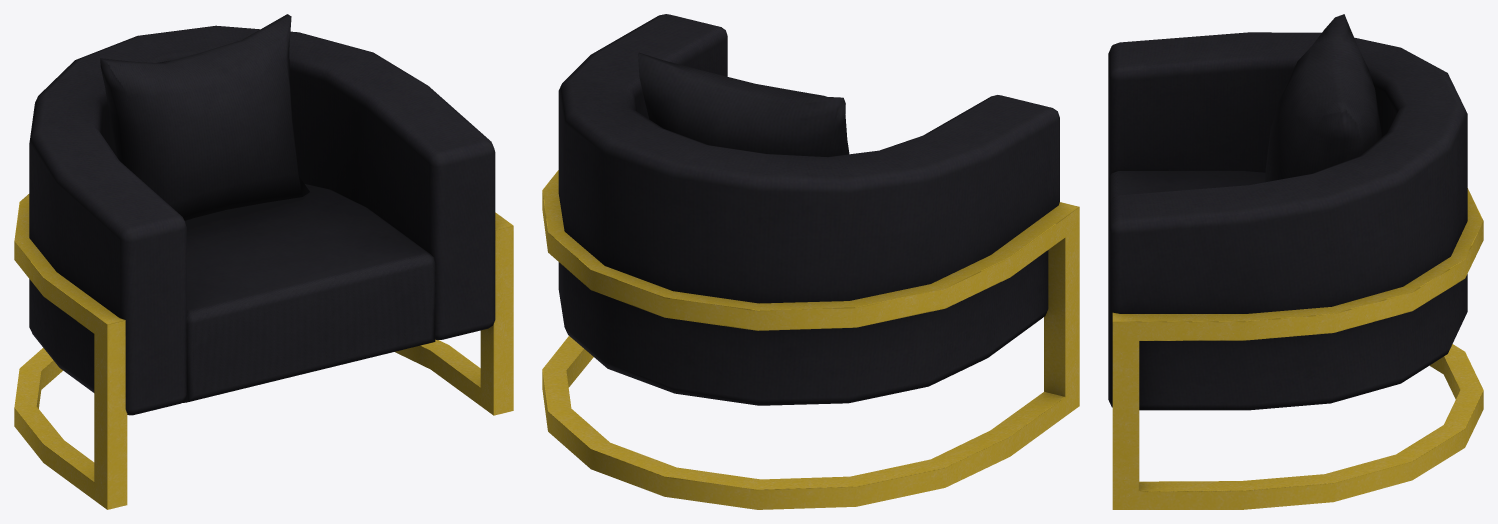
The model's file is Sofa03.fbx.
The picture shows the model from 3 angles, left to right: view 1: azimuth 30°, elevation 25°; view 2: azimuth 150°, elevation 25°; view 3: azimuth 270°, elevation 25°; orthographic projection. The views are drawn at different scales.
Visible parts, largest first — view 1: sofa_03; view 2: sofa_03; view 3: sofa_03.
Boxes of the visible parts, box(x1,y1,x2,y2) form: sofa_03: box(14, 14, 513, 509); sofa_03: box(542, 14, 1079, 509); sofa_03: box(1108, 14, 1483, 509).
Bounding box in the file's own units: 11.53 × 9.28 × 9.08.
Materials: 1 (1 with a texture image).
